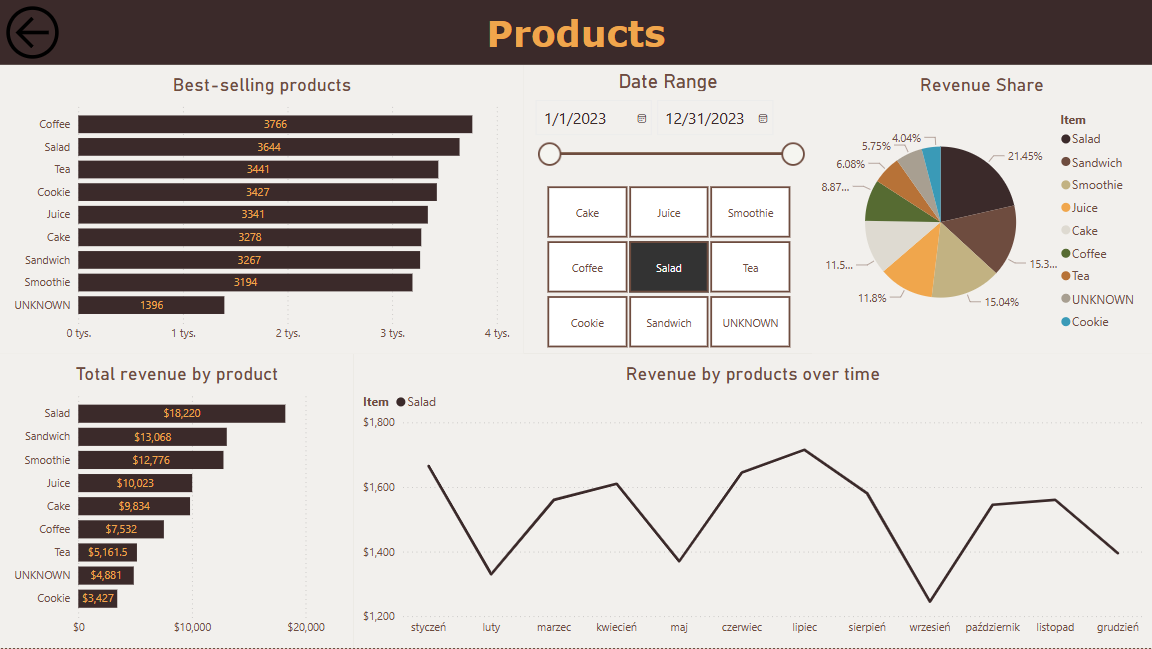

What the dashboard file says about the page in this screenshot:
{"tool":"powerbi","page":{"name":"Products","canvas":[1280,720],"ordinal":1},"visuals":[{"type":"clusteredBarChart","title":"Best-selling products","fields":{"Category":["CafeSalesFinal.Item"],"Y":["CafeSalesFinal.TotalQuantity"]},"box":[0,72.2,582.2,321.1],"z":0},{"type":"clusteredBarChart","title":"Total revenue by product","fields":{"Category":["CafeSalesFinal.Item"],"Y":["Sum(CafeSalesFinal.Total_Spent)"]},"box":[0,393.3,393.3,326.7],"z":1000},{"type":"lineChart","title":"Revenue by products over time","fields":{"Category":["Calendar.MonthName"],"Series":["CafeSalesFinal.Item"],"Y":["Sum(CafeSalesFinal.Total_Spent)"]},"box":[393.3,393.3,886.7,326.7],"z":2000},{"type":"slicer","fields":{"Values":["CafeSalesFinal.Item"]},"box":[582.2,200,320,193.3],"z":3000},{"type":"pieChart","title":"Revenue Share","fields":{"Category":["CafeSalesFinal.Item"],"Y":["Sum(CafeSalesFinal.Total_Spent)"]},"box":[902.2,72.2,377.8,321.1],"z":4000},{"type":"shape","title":"jghj","box":[0,0,1280,72.2],"z":5000},{"type":"slicer","title":"Date Range","fields":{"Values":["Calendar.Date"]},"box":[582.2,72.2,320,127.8],"z":6000},{"type":"actionButton","box":[0,0,74.4,72.2],"z":7000}]}

Visuals, with their boxes in screenshot pixels (x1, y1, x2, y2), scaled from the page's 1280x720 canvas onto the 1152x649 screenshot:
"Best-selling products" clusteredBarChart: {"x1": 0, "y1": 65, "x2": 524, "y2": 355}
"Total revenue by product" clusteredBarChart: {"x1": 0, "y1": 355, "x2": 354, "y2": 648}
"Revenue by products over time" lineChart: {"x1": 354, "y1": 355, "x2": 1151, "y2": 648}
slicer - CafeSalesFinal.Item: {"x1": 524, "y1": 180, "x2": 812, "y2": 355}
"Revenue Share" pieChart: {"x1": 812, "y1": 65, "x2": 1151, "y2": 355}
"jghj" shape: {"x1": 0, "y1": 0, "x2": 1151, "y2": 65}
"Date Range" slicer: {"x1": 524, "y1": 65, "x2": 812, "y2": 180}
actionButton: {"x1": 0, "y1": 0, "x2": 67, "y2": 65}
